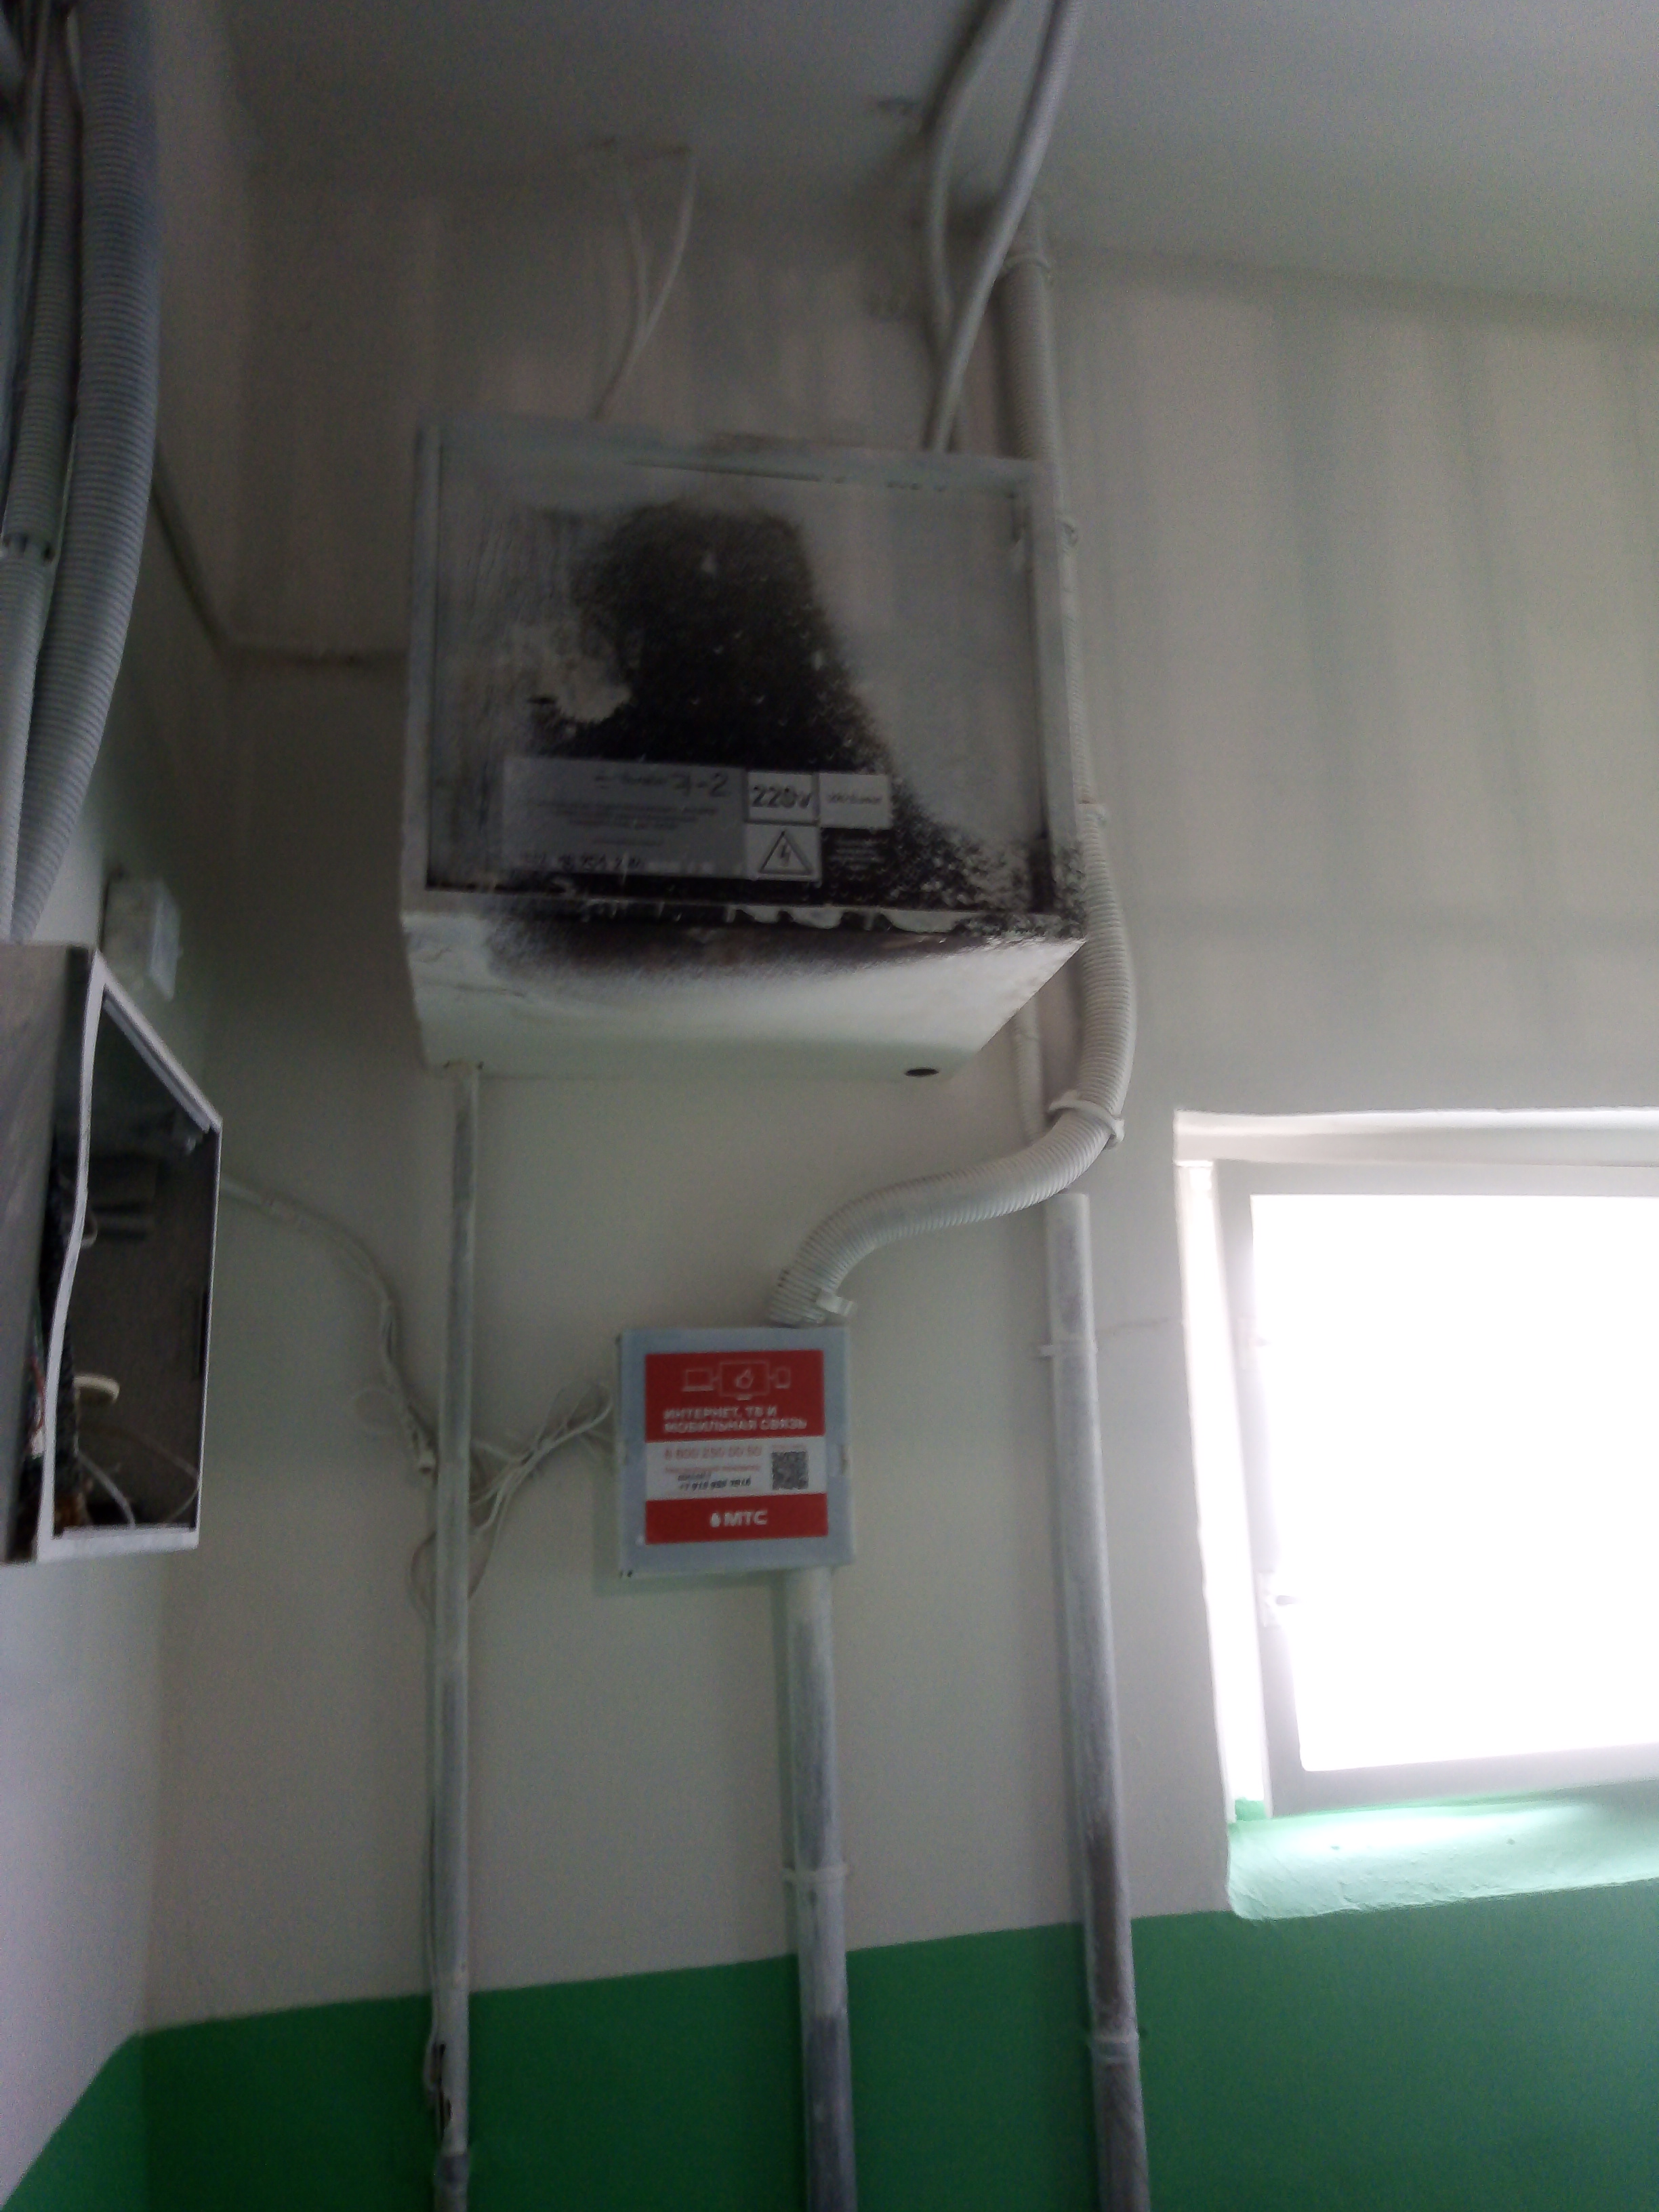shta-9m: (389, 397, 1098, 1092)
